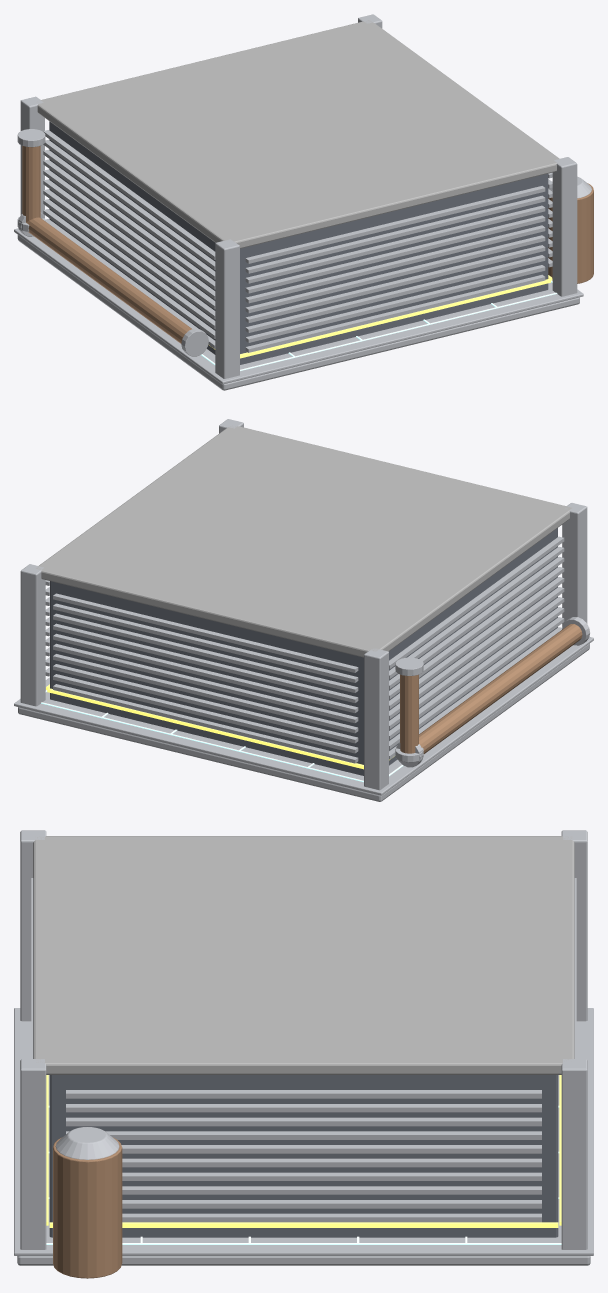
Rendered from mech_5x5_office.glb.
3 renders of one model, top to bottom at view 1: azimuth 30°, elevation 25°; view 2: azimuth 150°, elevation 25°; view 3: azimuth 270°, elevation 25°, orthographic. The views are drawn at different scales.
Parts seen in each view (by area): view 1: int_ceiling, ext_core, ext_louver3, ext_louver2, int_columns, int_slab_edge, int_slab, ext_bigpipe, ext_tank, ext_bigpipe2, ext_mech_glow, int_grid (+1 smaller); view 2: int_ceiling, ext_louver1, ext_core, ext_louver2, int_columns, int_slab_edge, int_slab, ext_bigpipe, ext_bigpipe2, ext_mech_glow, int_grid; view 3: int_ceiling, ext_louver0, ext_core, int_columns, int_slab_edge, ext_tank, int_slab, ext_mech_glow, ext_tank_cap, int_grid.
Boxes of the visible parts, box(x1,y1,x2,y2) form: int_ceiling: box(37, 20, 559, 248); ext_core: box(49, 121, 548, 364); ext_louver3: box(245, 186, 545, 352); ext_louver2: box(43, 130, 215, 348); int_columns: box(20, 14, 577, 378); int_slab_edge: box(14, 228, 583, 384); int_slab: box(17, 235, 579, 390); ext_bigpipe: box(26, 217, 191, 343); ext_tank: box(548, 183, 593, 283); ext_bigpipe2: box(22, 146, 40, 222); ext_mech_glow: box(209, 275, 552, 358); int_grid: box(201, 280, 557, 370); int_ceiling: box(36, 425, 571, 657); ext_louver1: box(53, 593, 358, 763); ext_core: box(50, 528, 557, 775); ext_louver2: box(389, 536, 564, 759); int_columns: box(20, 419, 587, 790); int_slab_edge: box(14, 637, 593, 795); int_slab: box(18, 643, 589, 801); ext_bigpipe: box(419, 624, 582, 753); ext_bigpipe2: box(400, 674, 418, 753); ext_mech_glow: box(46, 684, 394, 769); int_grid: box(41, 690, 403, 782); int_ceiling: box(33, 836, 574, 1074); ext_louver0: box(66, 1090, 541, 1222); ext_core: box(49, 1075, 558, 1237); int_columns: box(20, 830, 587, 1249); int_slab_edge: box(14, 1008, 593, 1255); ext_tank: box(53, 1137, 122, 1278); int_slab: box(17, 1256, 590, 1265); ext_mech_glow: box(46, 1075, 561, 1227); ext_tank_cap: box(55, 1127, 119, 1159); int_grid: box(46, 1105, 561, 1244).
Bounding box in the file's own units: 6.1 × 2 × 5.36.
